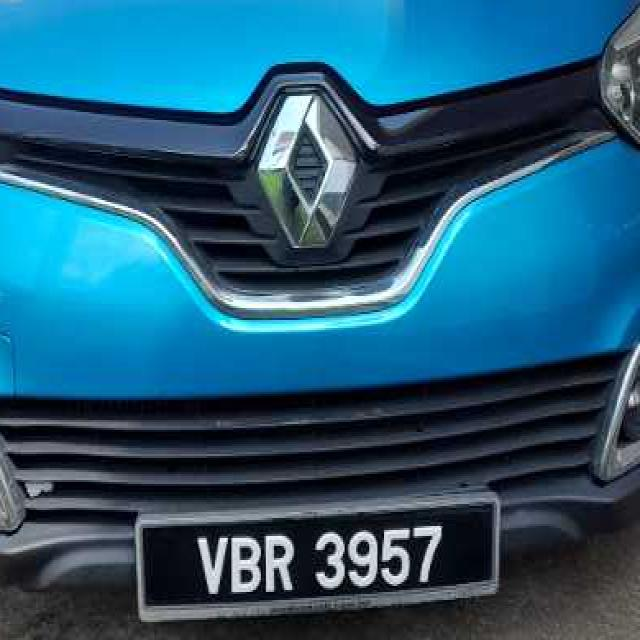car-plate: (130, 503, 503, 627)
